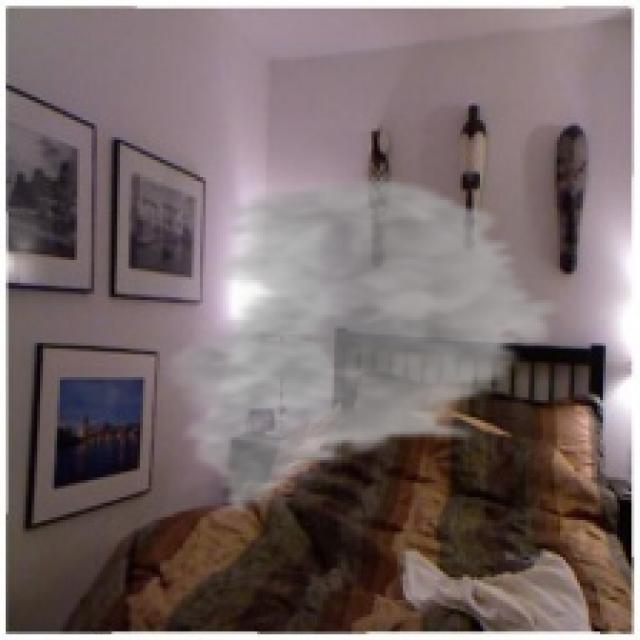smoke: (154, 172, 569, 517)
